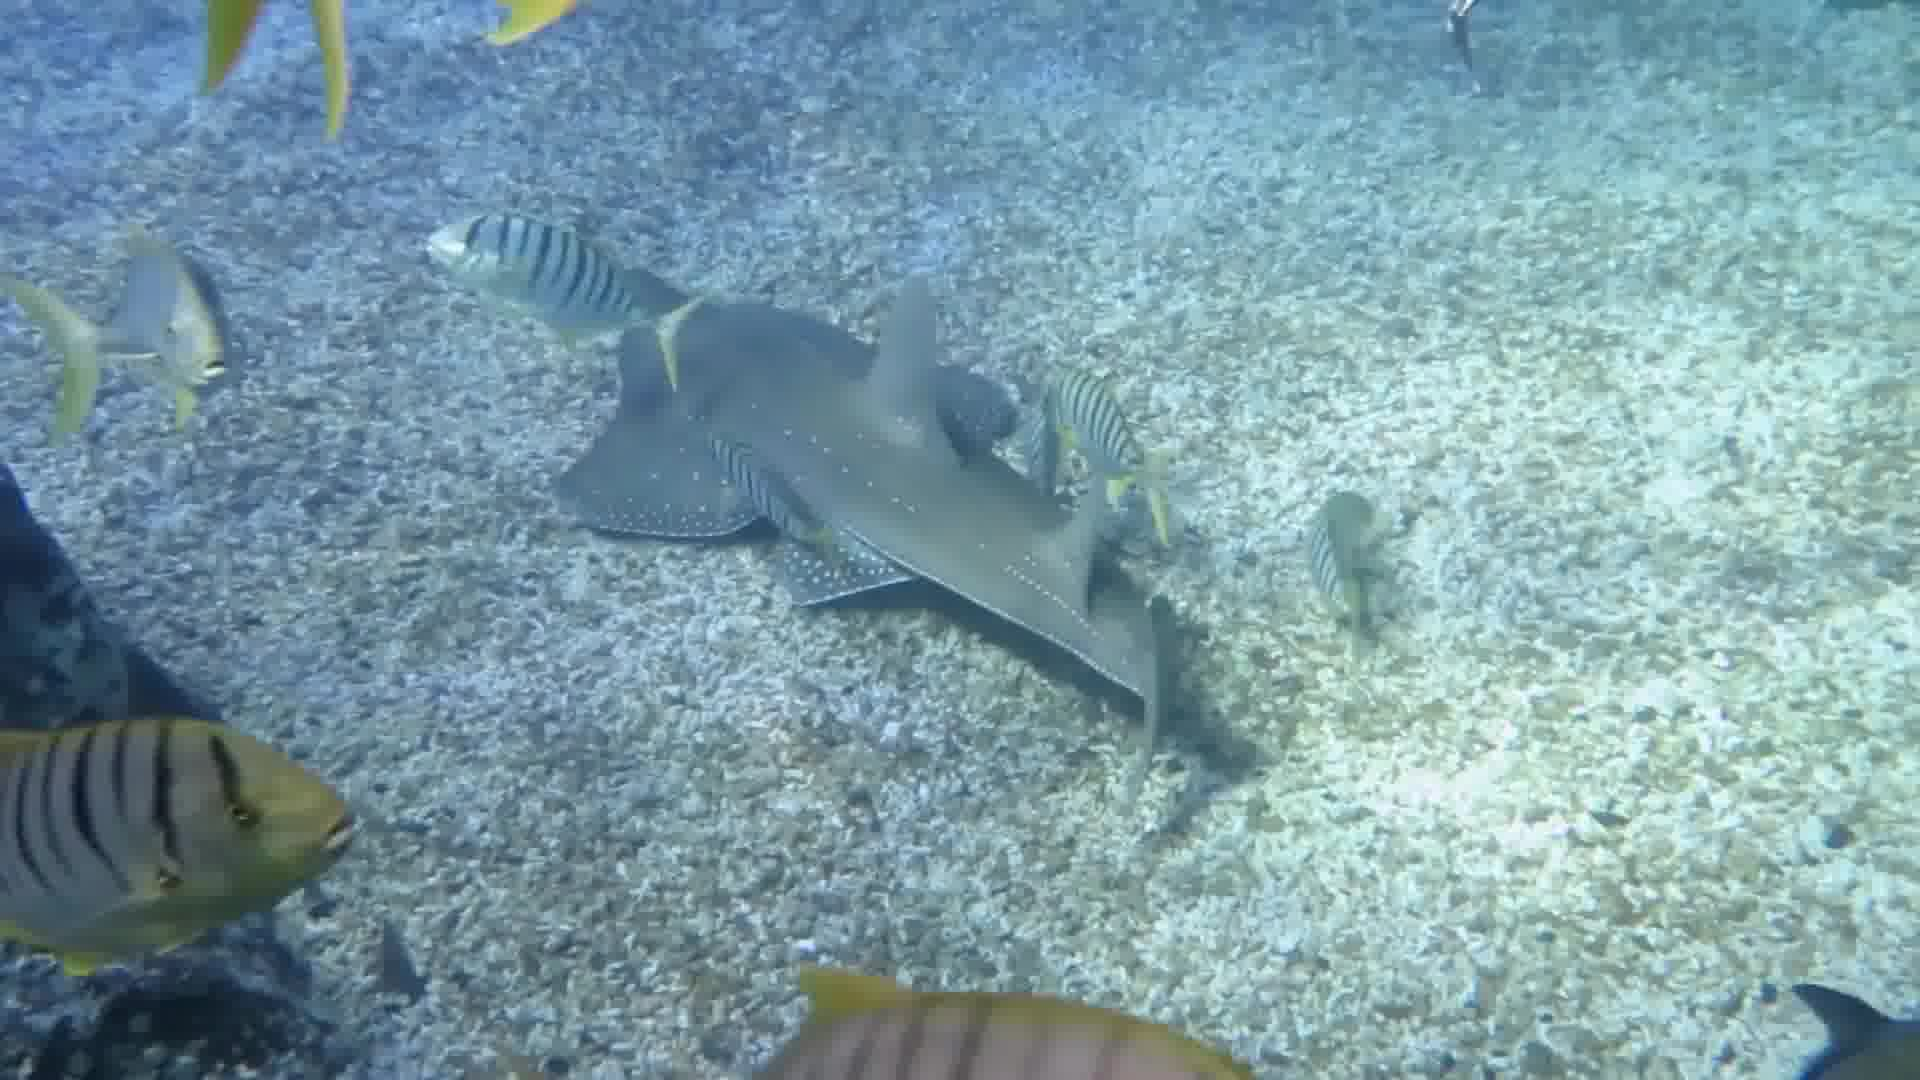Rhychobatus djiddensis: (473, 203, 1357, 829)
